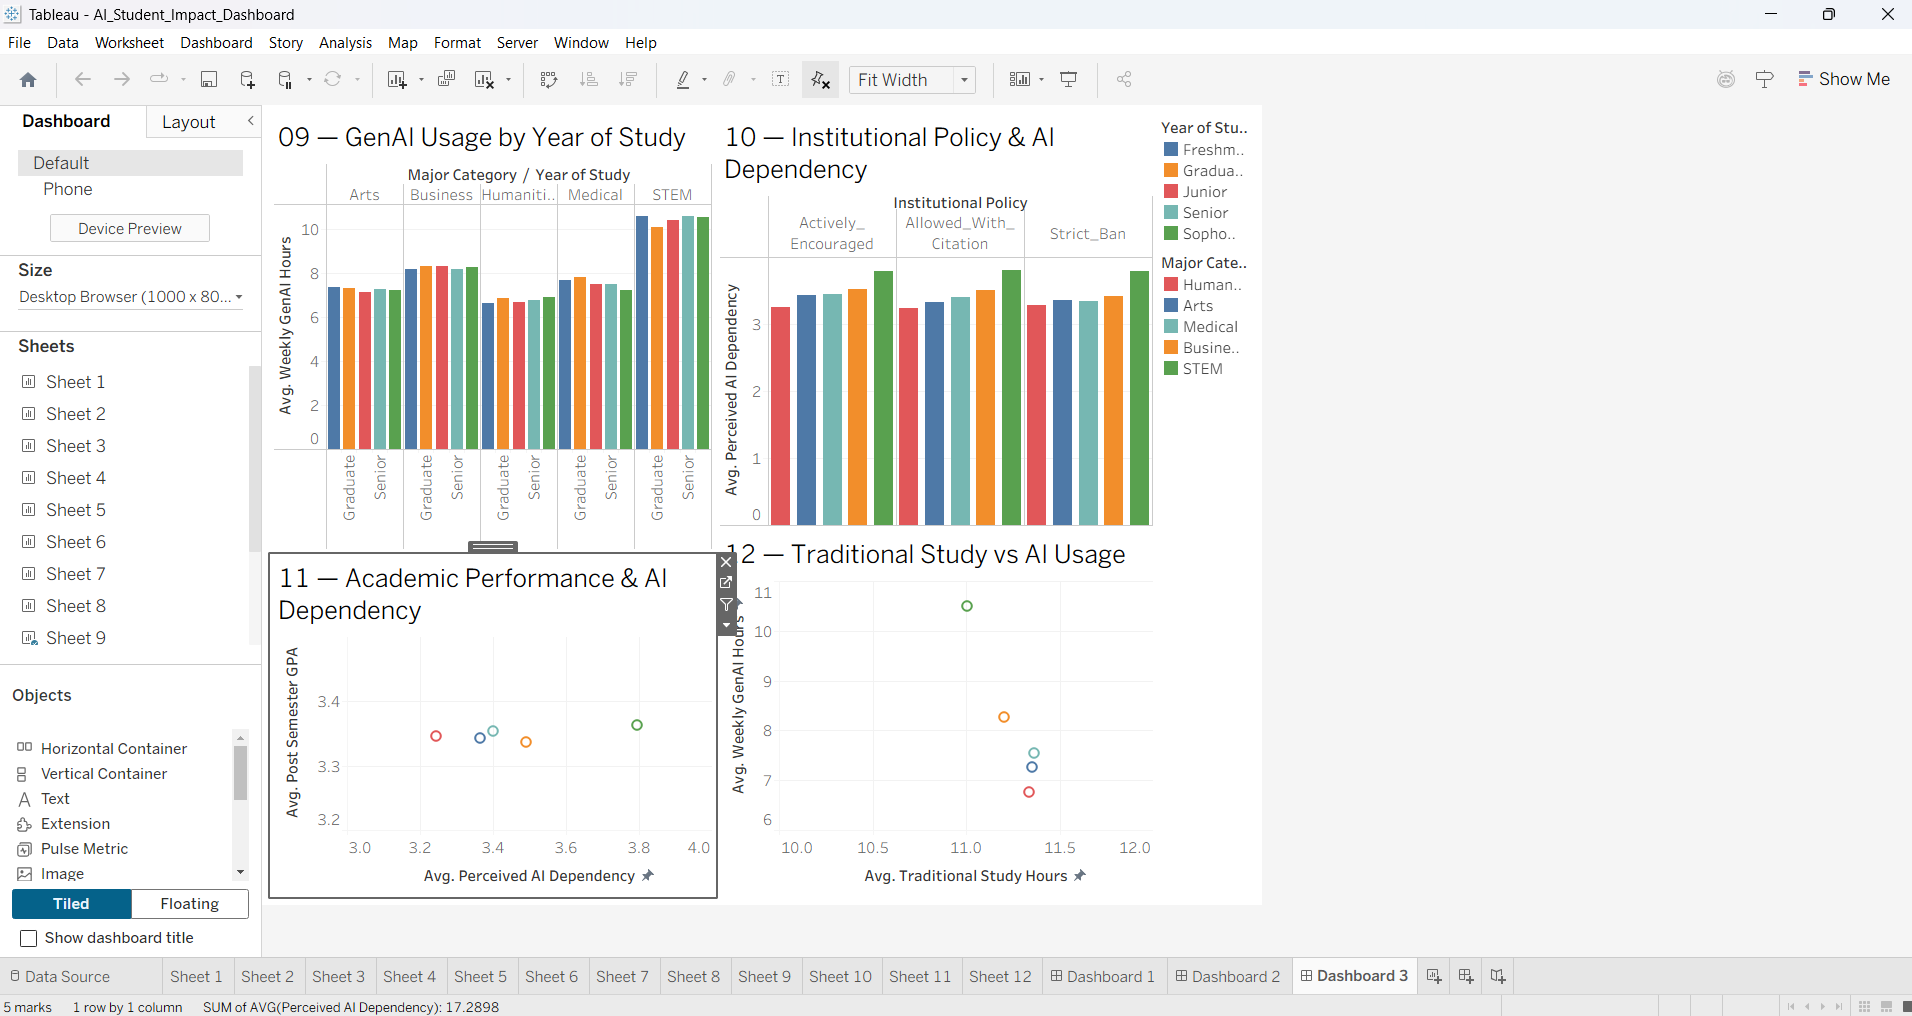

The dashboard page shown, as its layout file describes it:
{"tool":"tableau","page":{"name":"Dashboard 3","canvas":[1000,800],"ordinal":2},"visuals":[{"type":"worksheet","title":"Sheet 9","mark":"Automatic","rows":["Weekly_GenAI_Hours"],"cols":["Major_Category","Year_of_Study"],"box":[8,8,445.6,441]},{"type":"worksheet","title":"Sheet 10","mark":"Automatic","rows":["Perceived_AI_Dependency"],"cols":["Institutional_Policy","Major_Category"],"box":[453.6,8,441.4,417]},{"type":"legend","title":"Sheet 9","param":"[federated.0zc7qex0z2ube118zi30t0feg6gn].[none:Year_of_Study:nk]","box":[895,8,97,135]},{"type":"legend","title":"Sheet 10","param":"[federated.0zc7qex0z2ube118zi30t0feg6gn].[none:Major_Category:nk]","box":[895,143,97,135]},{"type":"worksheet","title":"Sheet 12","mark":"Automatic","rows":["Weekly_GenAI_Hours"],"cols":["Traditional_Study_Hours"],"box":[453.6,425,441.4,367]},{"type":"worksheet","title":"Sheet 11","mark":"Automatic","rows":["Post_Semester_GPA"],"cols":["Perceived_AI_Dependency"],"box":[8,449,445.6,343]}]}

Visuals, with their boxes on the page's 1000x800 design canvas (x1, y1, x2, y2). These are canvas units, not pixel positions in the 1912x1016 screenshot, which may show the page scaled, cropped or inside an application window:
"Sheet 9" worksheet: (left=8, top=8, right=454, bottom=449)
"Sheet 10" worksheet: (left=454, top=8, right=895, bottom=425)
"Sheet 9" legend: (left=895, top=8, right=992, bottom=143)
"Sheet 10" legend: (left=895, top=143, right=992, bottom=278)
"Sheet 12" worksheet: (left=454, top=425, right=895, bottom=792)
"Sheet 11" worksheet: (left=8, top=449, right=454, bottom=792)
